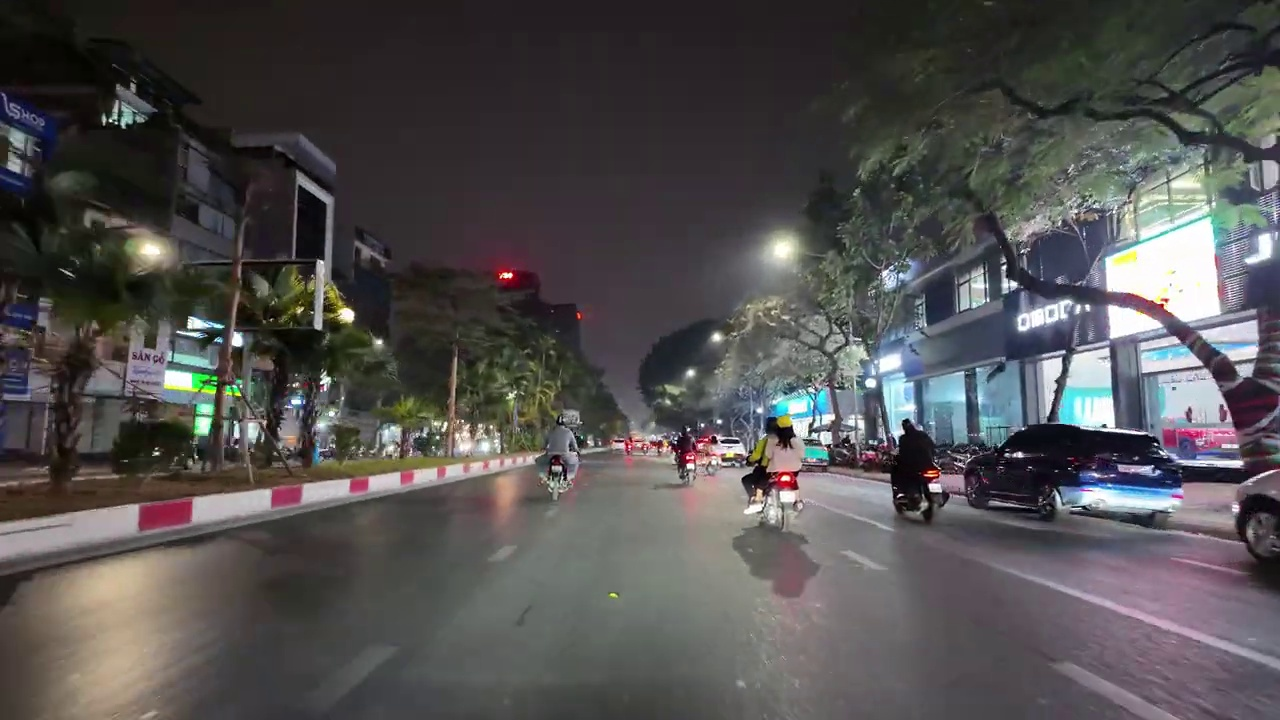acesa: (766, 232, 801, 266), (132, 236, 169, 267)
